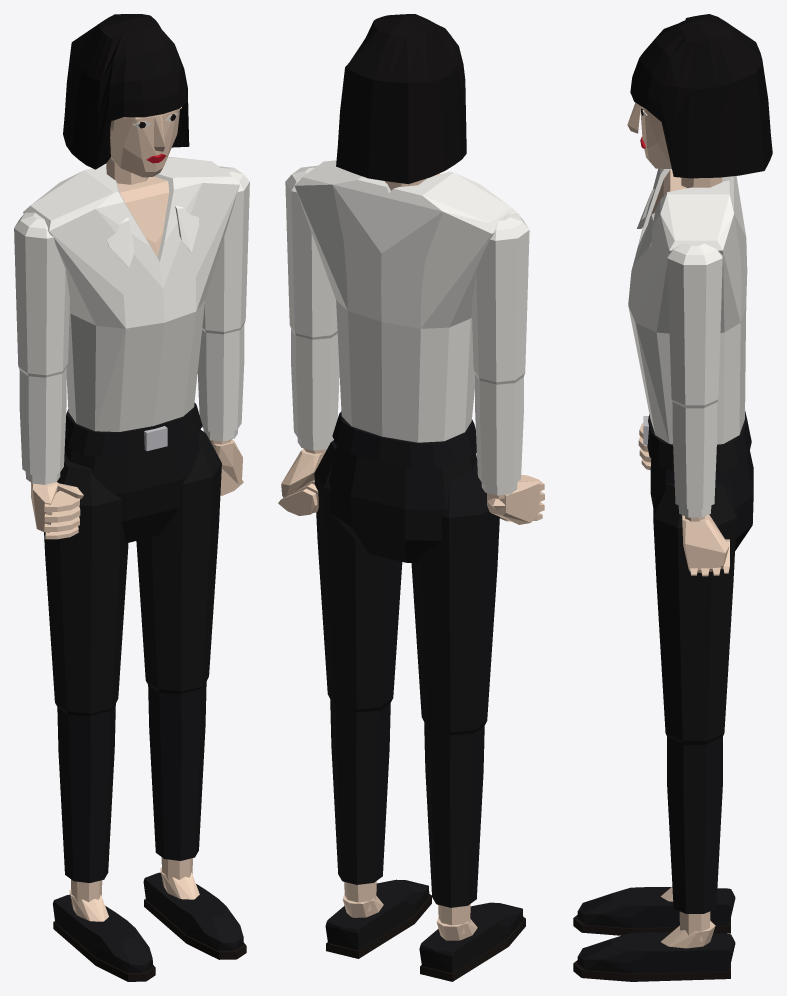
The model's file is wife.glb.
The picture shows the model from 3 angles, left to right: view 1: azimuth 30°, elevation 25°; view 2: azimuth 150°, elevation 25°; view 3: azimuth 270°, elevation 25°; orthographic projection. The views are drawn at different scales.
Parts seen in each view (by area): view 1: chest_mesh, head_mesh, upperLegR_mesh, upperLegL_mesh, spine_mesh, hips_mesh, lowerLegL_mesh, lowerLegR_mesh, upperArmR_mesh, footL_mesh, footR_mesh, lowerArmR_mesh (+5 smaller); view 2: chest_mesh, head_mesh, upperLegR_mesh, spine_mesh, hips_mesh, upperLegL_mesh, lowerLegL_mesh, lowerLegR_mesh, upperArmR_mesh, upperArmL_mesh, lowerArmR_mesh, footL_mesh (+4 smaller); view 3: head_mesh, upperLegL_mesh, chest_mesh, lowerLegL_mesh, upperArmL_mesh, footL_mesh, spine_mesh, footR_mesh, lowerArmL_mesh, hips_mesh, handL_mesh.
Boxes of the visible parts, box(x1,y1,x2,y2) form: chest_mesh: box(23, 156, 239, 328); head_mesh: box(63, 14, 189, 177); upperLegR_mesh: box(44, 453, 128, 716); upperLegL_mesh: box(136, 429, 221, 694); spine_mesh: box(66, 299, 205, 431); hips_mesh: box(64, 403, 202, 543); lowerLegL_mesh: box(148, 681, 206, 882); lowerLegR_mesh: box(57, 704, 115, 904); upperArmR_mesh: box(14, 212, 69, 377); footL_mesh: box(143, 867, 246, 959); footR_mesh: box(53, 889, 155, 981); lowerArmR_mesh: box(19, 367, 66, 484); chest_mesh: box(294, 160, 519, 328); head_mesh: box(336, 14, 466, 184); upperLegR_mesh: box(411, 459, 499, 735); spine_mesh: box(336, 300, 474, 442); hips_mesh: box(328, 411, 476, 562); upperLegL_mesh: box(314, 440, 402, 712); lowerLegL_mesh: box(330, 699, 390, 911); lowerLegR_mesh: box(424, 722, 484, 935); upperArmR_mesh: box(471, 213, 529, 384); upperArmL_mesh: box(285, 165, 337, 339); lowerArmR_mesh: box(475, 374, 523, 498); footL_mesh: box(325, 879, 431, 958); head_mesh: box(627, 14, 772, 178); upperLegL_mesh: box(653, 483, 736, 744); chest_mesh: box(628, 168, 747, 333); lowerLegL_mesh: box(667, 736, 722, 941); upperArmL_mesh: box(667, 243, 722, 408); footL_mesh: box(573, 921, 735, 981); spine_mesh: box(628, 305, 746, 444); footR_mesh: box(573, 887, 735, 935); lowerArmL_mesh: box(672, 402, 717, 521); hips_mesh: box(643, 411, 753, 550); handL_mesh: box(682, 514, 729, 576).
Bounding box in the file's own units: 0.4753 × 1.83 × 0.3572.
